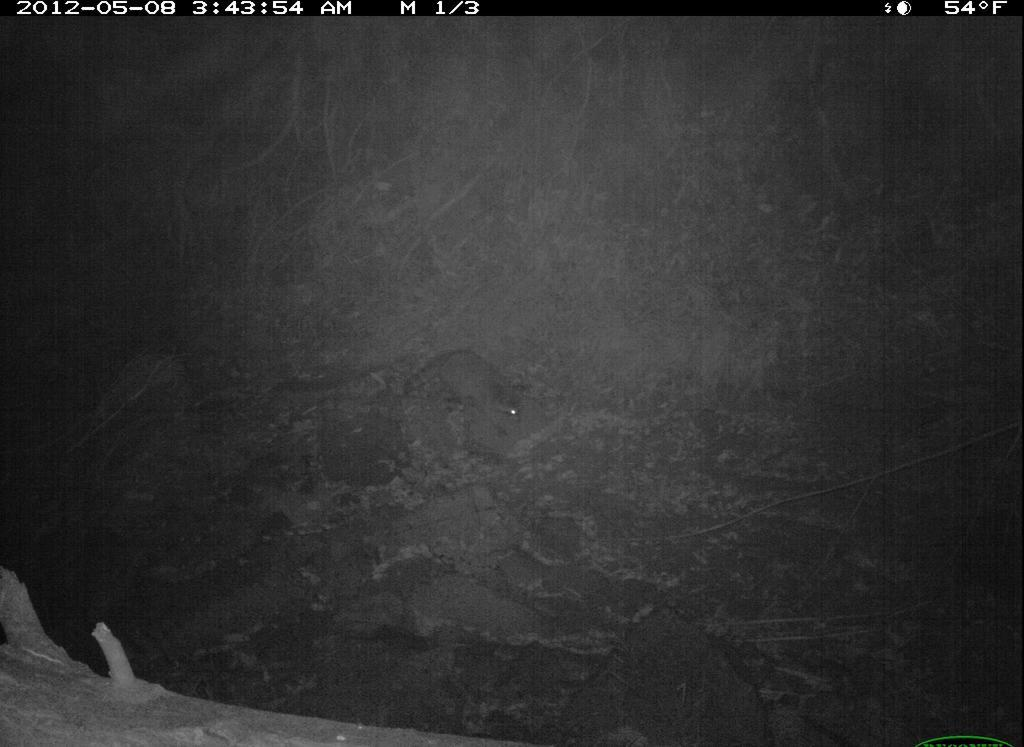raccoon: (401, 344, 537, 436)
